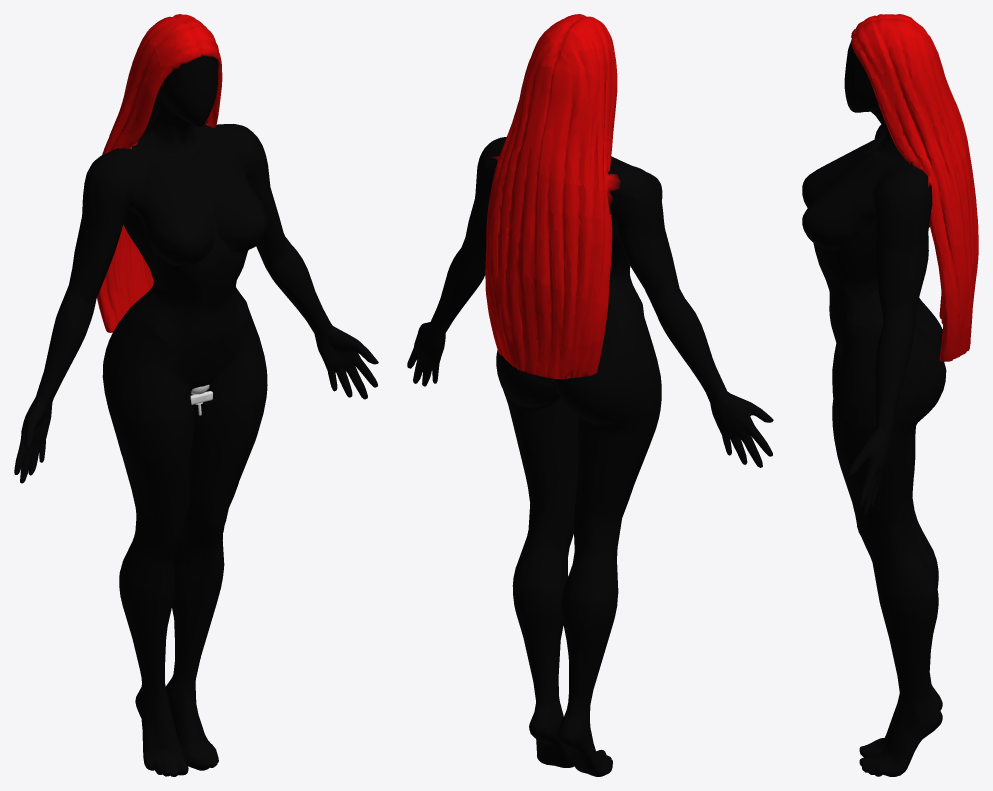
The model's file is pelvi.glb.
The picture shows the model from 3 angles, left to right: view 1: azimuth 30°, elevation 25°; view 2: azimuth 150°, elevation 25°; view 3: azimuth 270°, elevation 25°; orthographic projection.
Parts seen in each view (by area): view 1: corpo_mesh; view 2: corpo_mesh; view 3: corpo_mesh.
Part boxes in pixels (bbox=[...]): corpo_mesh: bbox=[14, 14, 378, 776]; corpo_mesh: bbox=[407, 14, 773, 776]; corpo_mesh: bbox=[802, 14, 978, 776].
Size of the model in its own units: 8.56 by 16.8 by 3.59.
